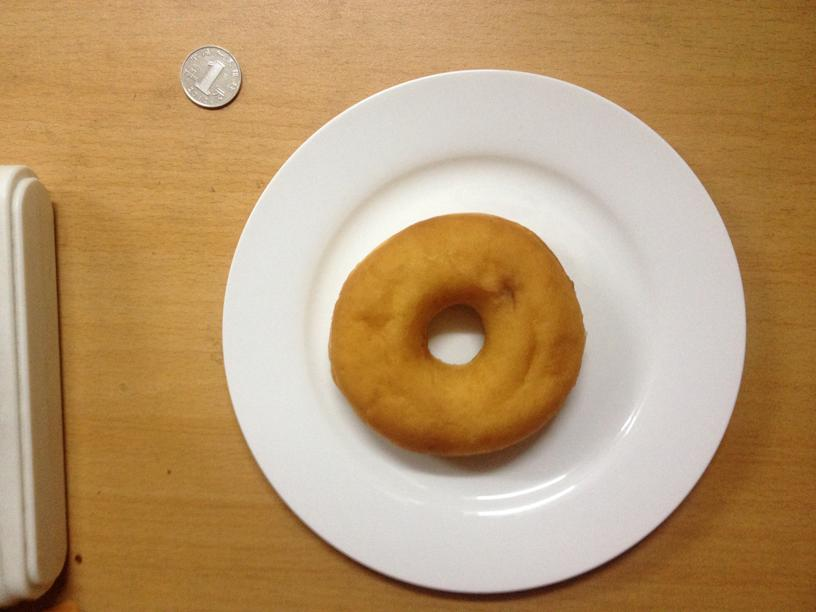coin: (179, 45, 243, 108)
doughnut: (324, 212, 587, 455)
